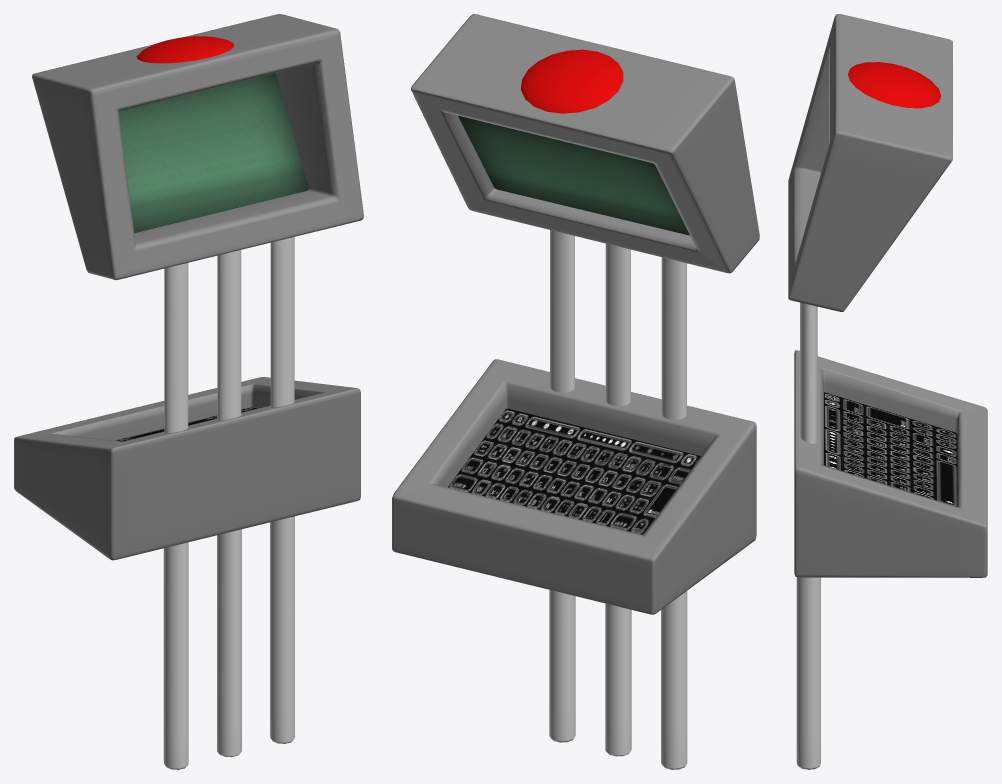
The model's file is terminal.fbx.
3 views of the same model, side by side, from view 1: azimuth 30°, elevation 25°; view 2: azimuth 150°, elevation 25°; view 3: azimuth 270°, elevation 25° (orthographic). The views are drawn at different scales.
Parts seen in each view (by area): view 1: pPipe1, pPipe2, pPlane2, pCylinder3, pCylinder1, pCylinder2, pCylinder4, pCylinder5, pCylinder6, pSphere1; view 2: pPipe1, pPipe2, pPlane1, pPlane2, pSphere1, pCylinder3, pCylinder6, pCylinder4, pCylinder1, pCylinder2, pCylinder5; view 3: pPipe2, pPipe1, pPlane1, pCylinder2, pSphere1, pCylinder5.
Boxes of the visible parts, x1=… form: pPipe1: x1=14, y1=377, x2=360, y2=560; pPipe2: x1=32, y1=14, x2=363, y2=280; pPlane2: x1=119, y1=73, x2=308, y2=233; pCylinder3: x1=163, y1=542, x2=188, y2=769; pCylinder1: x1=217, y1=529, x2=241, y2=757; pCylinder2: x1=270, y1=516, x2=294, y2=743; pCylinder4: x1=217, y1=250, x2=241, y2=420; pCylinder5: x1=270, y1=237, x2=294, y2=407; pCylinder6: x1=164, y1=263, x2=188, y2=433; pSphere1: x1=136, y1=36, x2=233, y2=63; pPipe1: x1=392, y1=359, x2=756, y2=614; pPipe2: x1=411, y1=14, x2=759, y2=273; pPlane1: x1=448, y1=408, x2=700, y2=534; pPlane2: x1=458, y1=115, x2=689, y2=235; pSphere1: x1=520, y1=49, x2=623, y2=113; pCylinder3: x1=661, y1=591, x2=687, y2=769; pCylinder6: x1=661, y1=257, x2=686, y2=420; pCylinder4: x1=605, y1=243, x2=630, y2=406; pCylinder1: x1=605, y1=603, x2=631, y2=756; pCylinder2: x1=549, y1=590, x2=575, y2=742; pCylinder5: x1=550, y1=230, x2=574, y2=392; pPipe2: x1=788, y1=14, x2=952, y2=311; pPipe1: x1=794, y1=350, x2=987, y2=577; pPlane1: x1=824, y1=392, x2=957, y2=506; pCylinder2: x1=796, y1=577, x2=820, y2=769; pSphere1: x1=848, y1=62, x2=940, y2=108; pCylinder5: x1=800, y1=302, x2=817, y2=443.
Bounding box in the file's own units: 1.41 × 3.68 × 0.9955.
